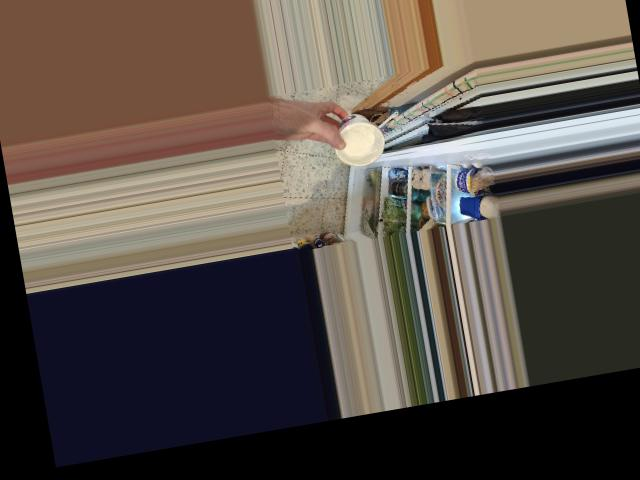cotage: (331, 104, 388, 165)
